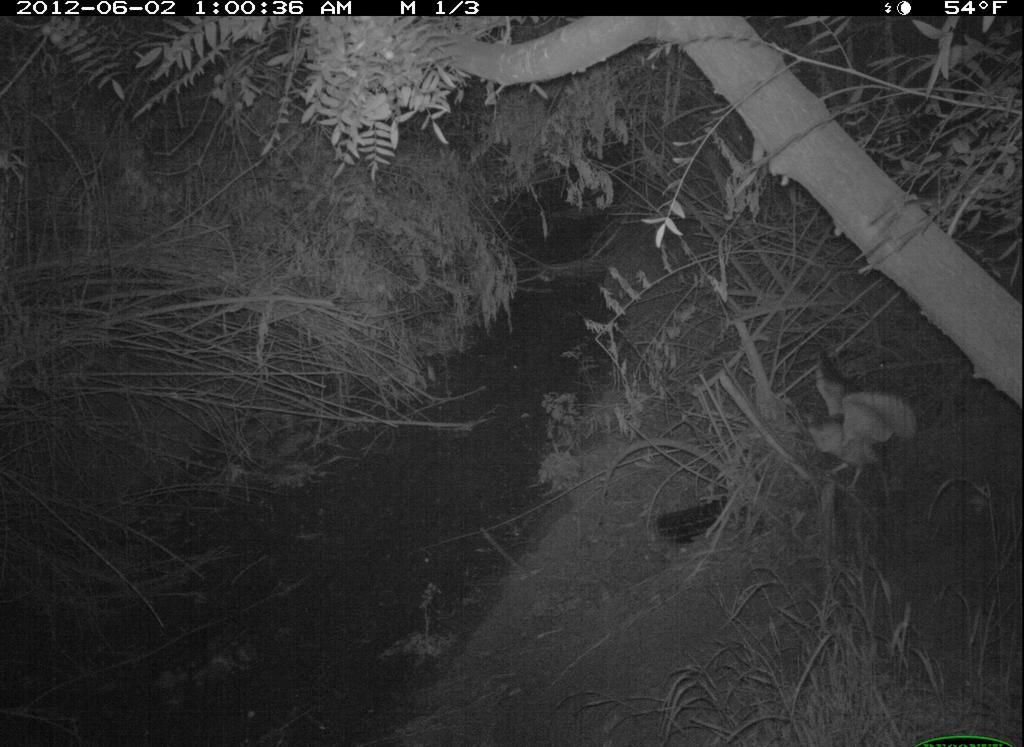bird: (807, 354, 922, 496)
